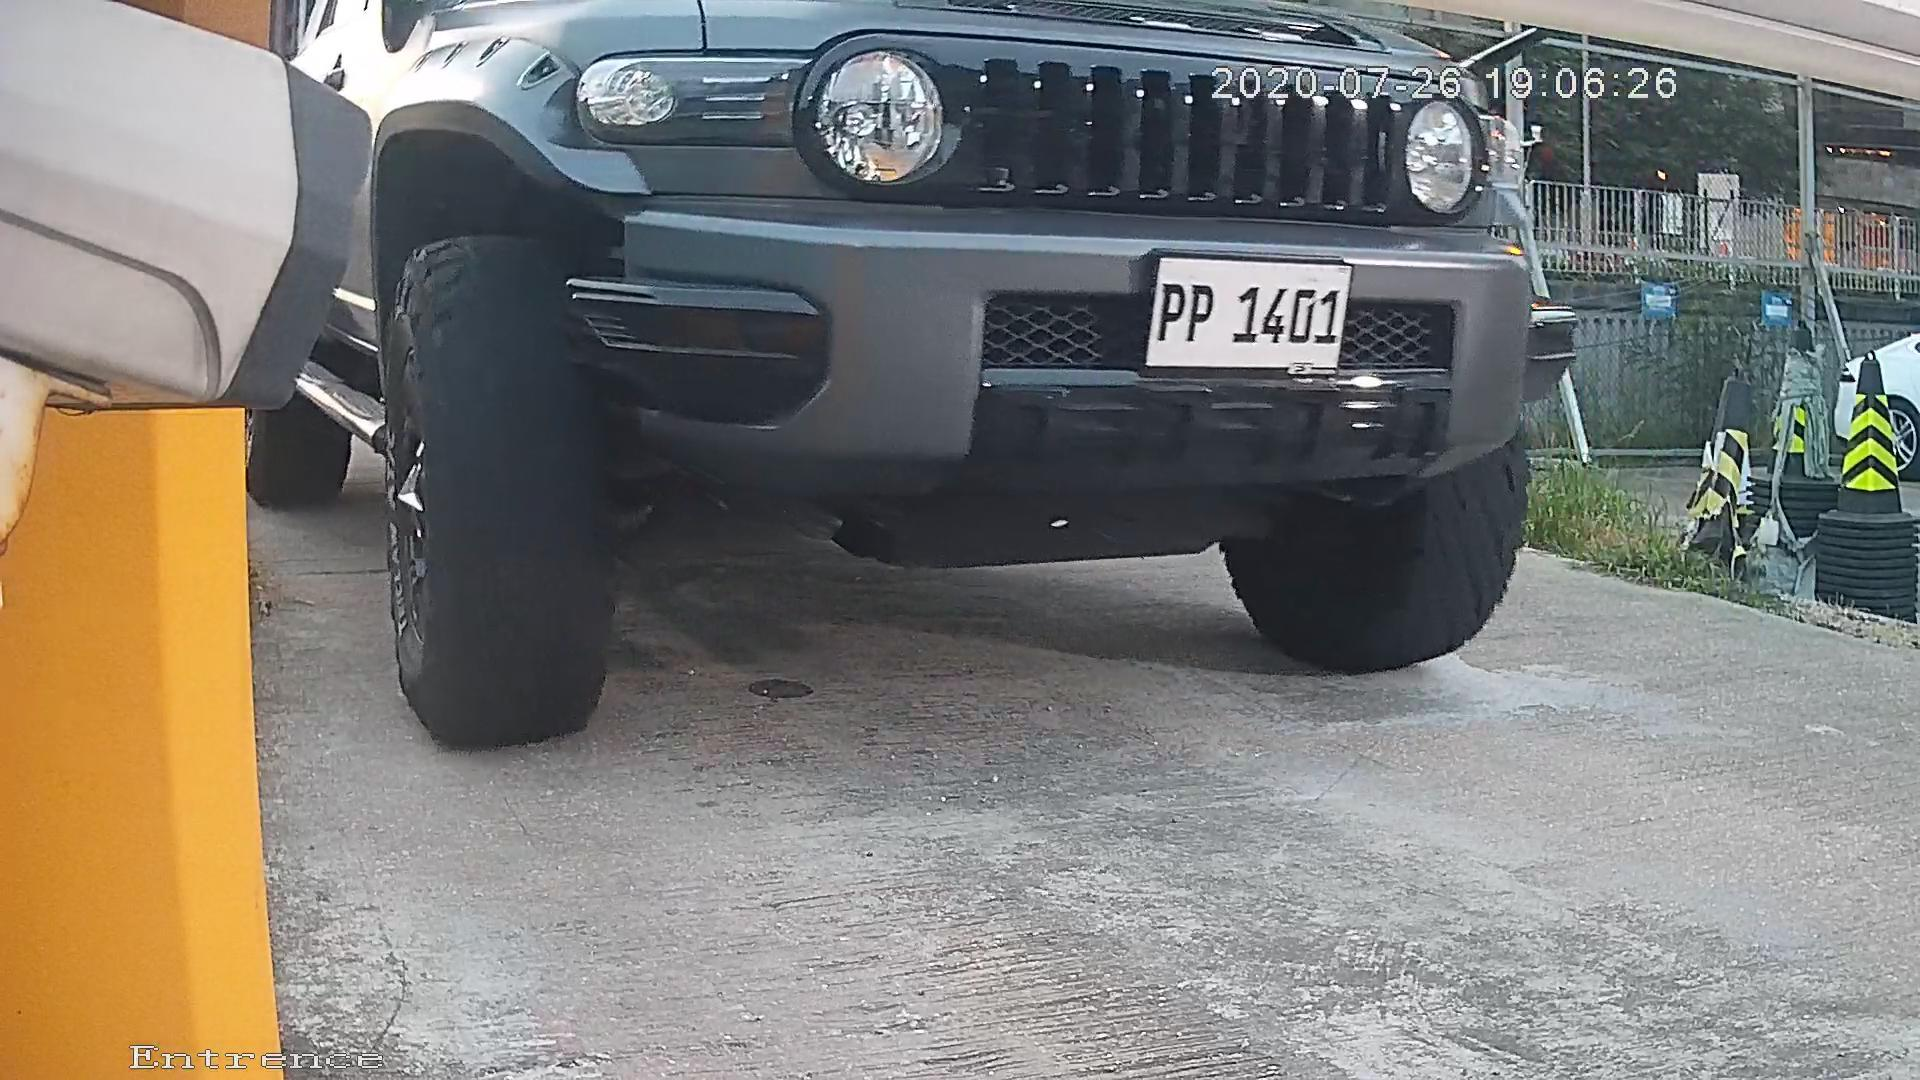Car: (146, 39, 1723, 704)
License Plate: (1098, 222, 1398, 410)
